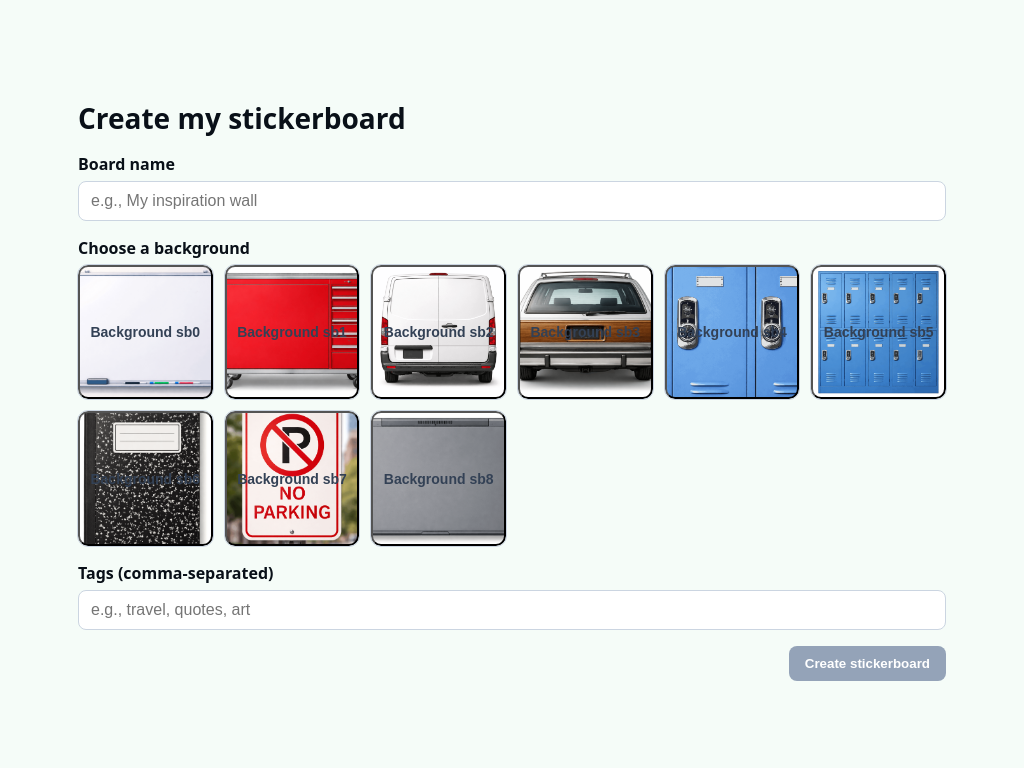
it: CreateStickerboard › should show error message if creation fails
Type "Existing Board" into the field labelled "Board name" at (512, 201), box [78,181,946,221]
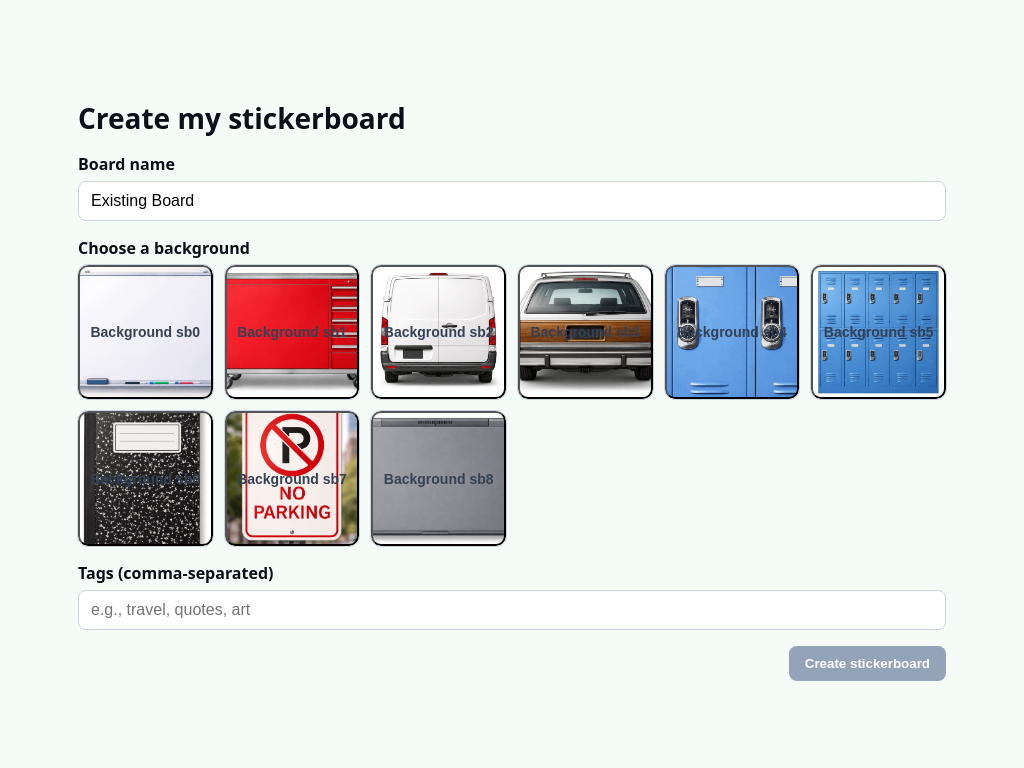
Click the button "Background sb0" at (145, 332), box [78,265,213,400]
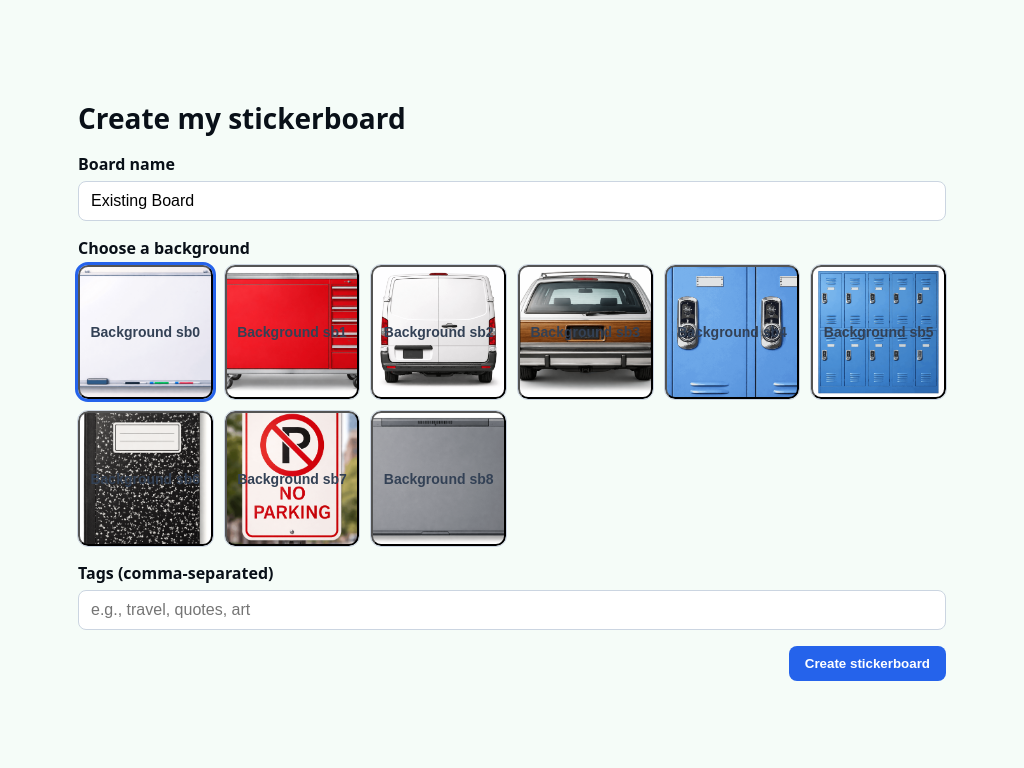
Click the button "Create stickerboard" at (867, 664), box [789,646,946,681]
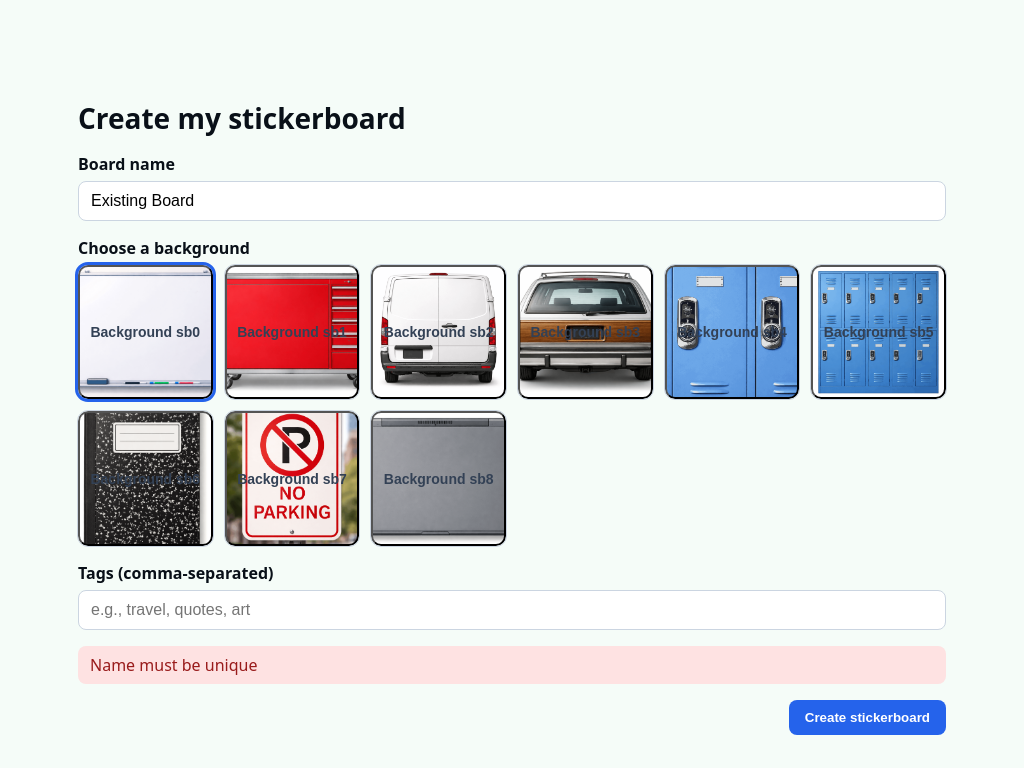
Expected: the text "Name must be unique" is shown, [78,646,946,684]
